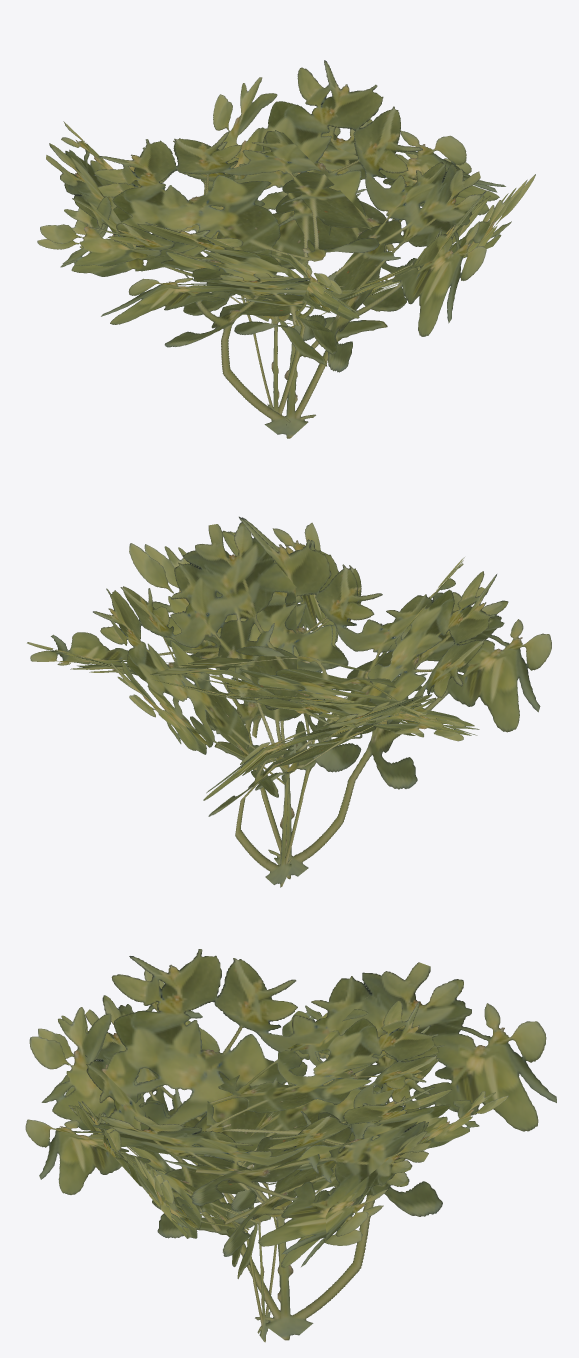
The model's file is Plant_Punjab.FBX.
The picture shows the model from 3 angles, top to bottom: view 1: azimuth 30°, elevation 25°; view 2: azimuth 150°, elevation 25°; view 3: azimuth 270°, elevation 25°; orthographic projection. The views are drawn at different scales.
Visible parts, largest first — view 1: Plant_Punjab; view 2: Plant_Punjab; view 3: Plant_Punjab.
Boxes of the visible parts, <box> form: Plant_Punjab: <box>37,60,535,438</box>; Plant_Punjab: <box>27,516,551,887</box>; Plant_Punjab: <box>25,949,556,1342</box>.
Size of the model in its own units: 45.62 by 28.33 by 42.24.
